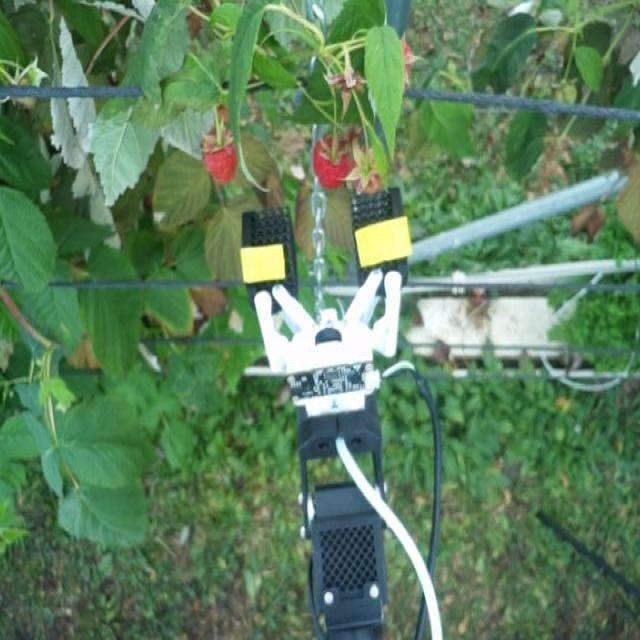Riped berries: (197, 125, 245, 183), (312, 132, 351, 186), (353, 146, 392, 194)
